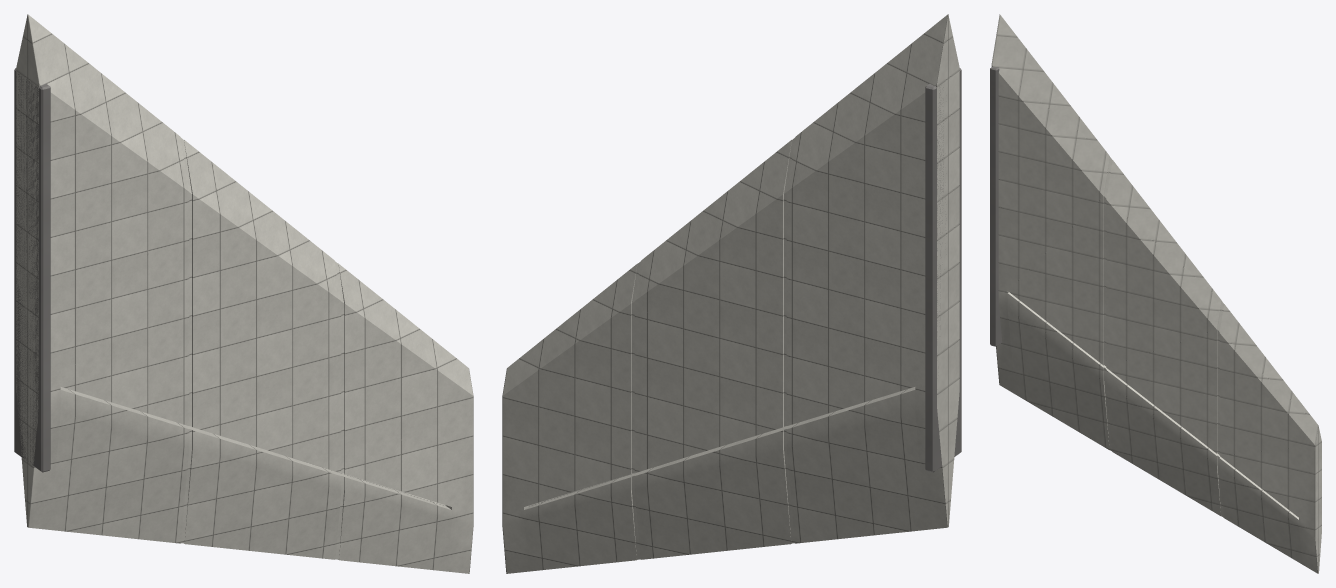
The model's file is ax_aero_21_tlv_vertical_tail_s.glb.
3 renders of one model, left to right at view 1: azimuth 30°, elevation 25°; view 2: azimuth 150°, elevation 25°; view 3: azimuth 330°, elevation 25°, orthographic. The views are drawn at different scales.
Parts seen in each view (by area): view 1: wing_top, rudder, root_flange, wing_underside; view 2: wing_underside, rudder, root_flange, wing_top; view 3: wing_top, rudder, root_flange, wing_underside.
Part boxes in pixels (box(x1,y1,x2,y2)): wing_top: box(27, 14, 473, 573); rudder: box(50, 387, 451, 571); root_flange: box(14, 68, 50, 472); wing_underside: box(16, 15, 446, 526); wing_underside: box(502, 14, 948, 573); rudder: box(524, 387, 925, 571); root_flange: box(925, 68, 961, 472); wing_top: box(529, 15, 959, 526); wing_top: box(991, 14, 1318, 573); rudder: box(1007, 292, 1302, 564); root_flange: box(990, 66, 1002, 346); wing_underside: box(1318, 427, 1321, 573).
Size of the model in its own units: 1.8 by 2.6 by 0.2.
2 materials, 2 textured.
